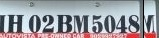character: (6, 13, 23, 33), (72, 14, 89, 33), (56, 13, 72, 33), (41, 14, 55, 33), (27, 13, 40, 33), (115, 14, 128, 33), (127, 14, 140, 33), (91, 14, 103, 33), (103, 14, 115, 33)
